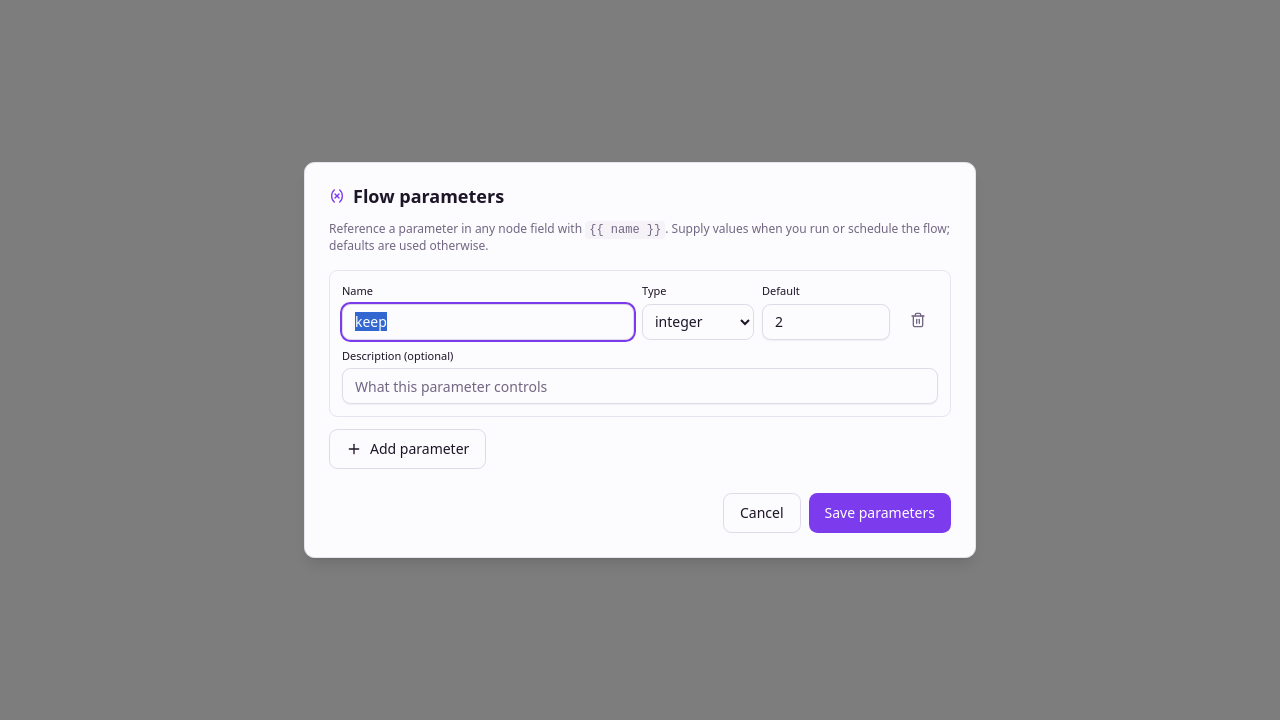
ParametersDialog › removes a parameter row
The image size is (1280, 720).
What coordinates should you click on to do the following:
click the button named "remove-parameter-0"
I would click on:
 (918, 320)
Its box is x1=898 y1=300 x2=938 y2=340.
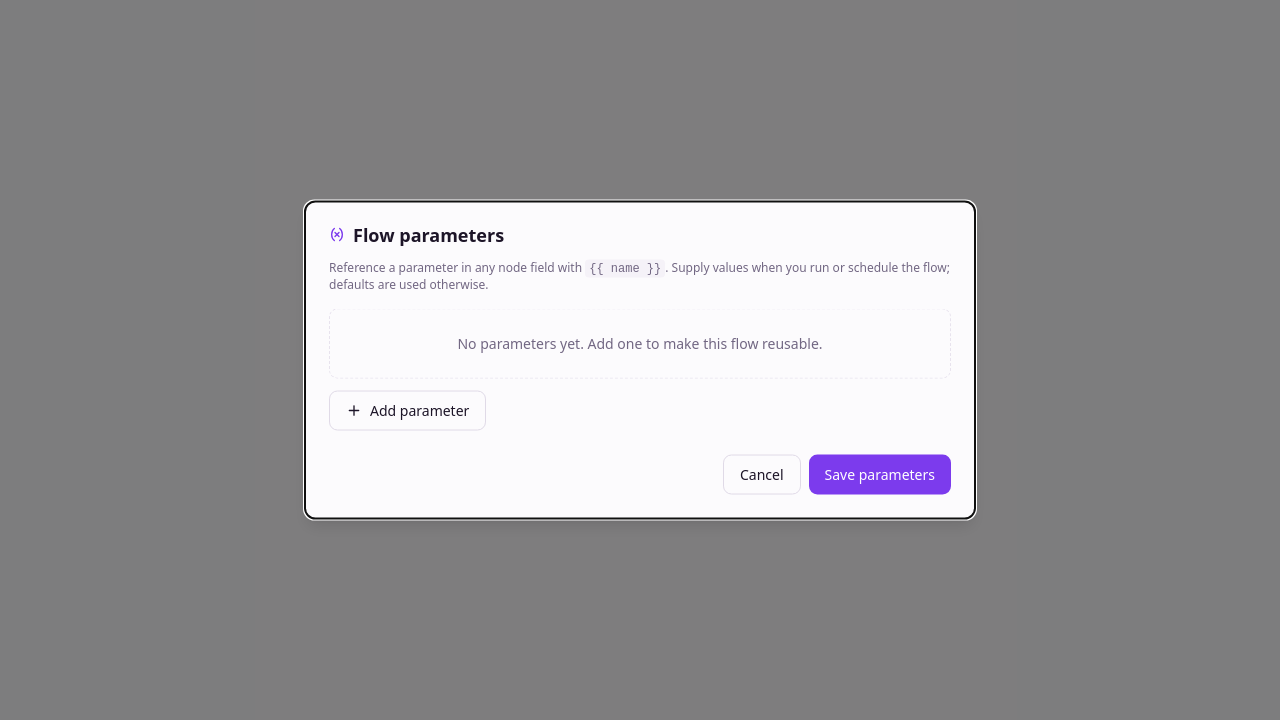
Expected: the field labelled "parameter-name-0" is gone
